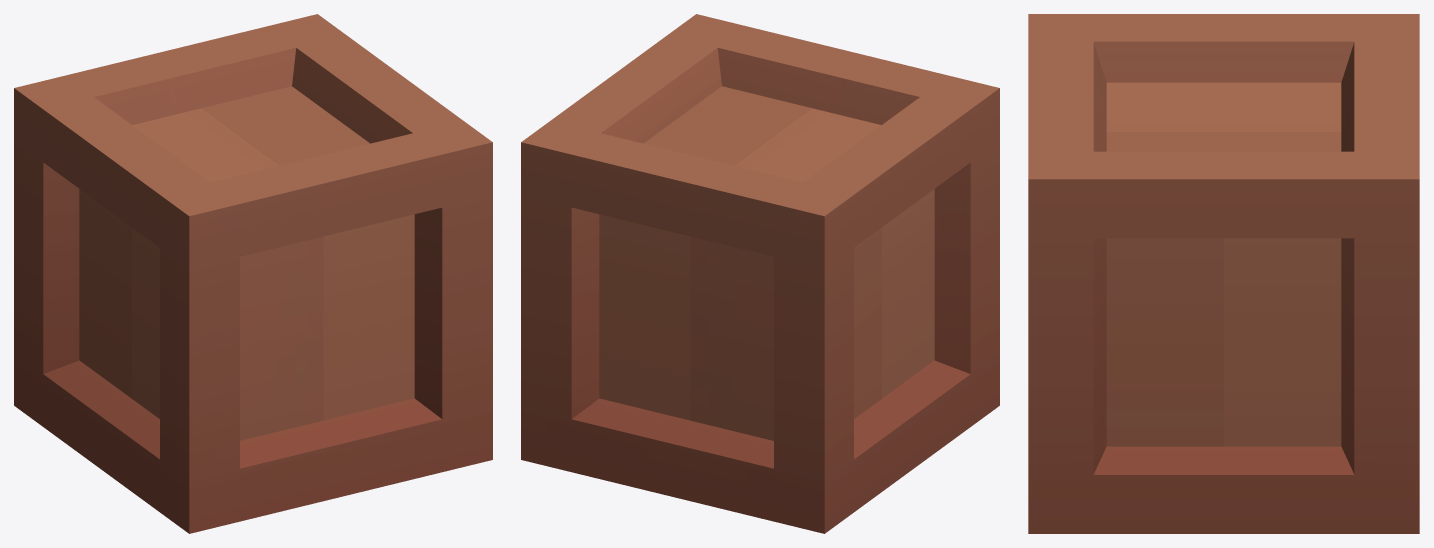
File: crate_A_big.glb
The picture shows the model from 3 angles, left to right: view 1: azimuth 30°, elevation 25°; view 2: azimuth 150°, elevation 25°; view 3: azimuth 270°, elevation 25°; orthographic projection. The views are drawn at different scales.
Visible parts, largest first — view 1: crate_A_big; view 2: crate_A_big; view 3: crate_A_big.
Boxes of the visible parts, x1,y1,x2,y2 form: crate_A_big: (14, 14, 492, 533); crate_A_big: (521, 14, 999, 533); crate_A_big: (1028, 14, 1419, 533).
Size of the model in its own units: 0.21 by 0.21 by 0.21.
Materials: 1 (1 with a texture image).
